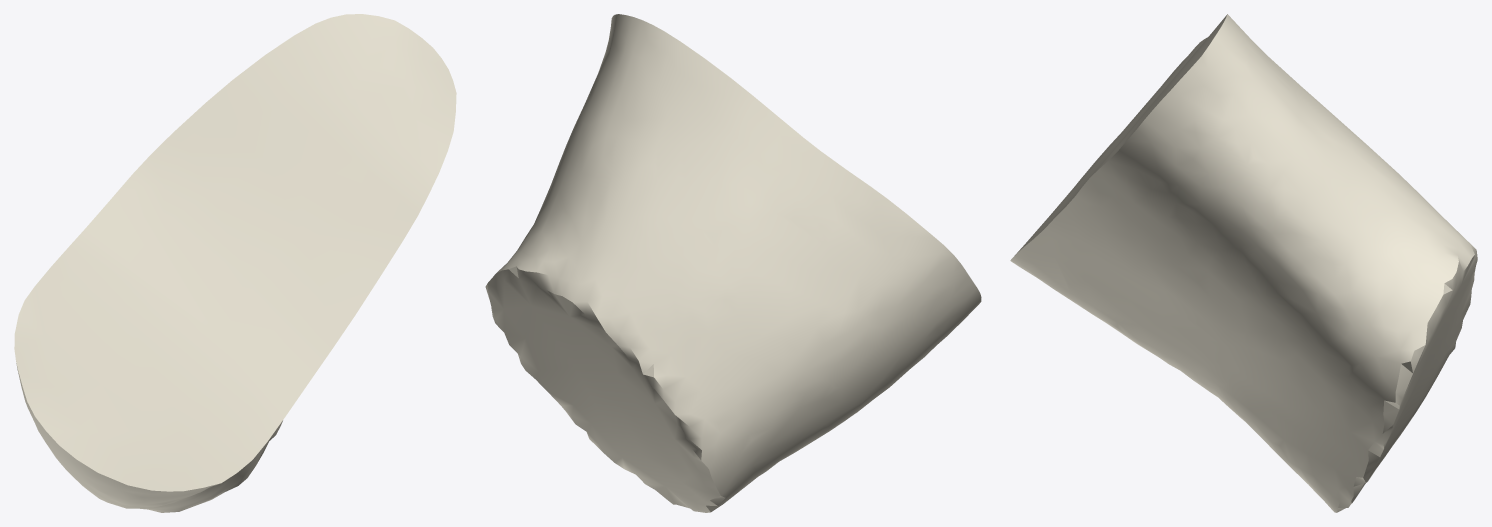
Rendered from fma16994_mm1611.glb.
3 renders of one model, left to right at view 1: azimuth 30°, elevation 25°; view 2: azimuth 150°, elevation 25°; view 3: azimuth 270°, elevation 25°, orthographic. The views are drawn at different scales.
Visible parts, largest first — view 1: FMA16994_MM1611; view 2: FMA16994_MM1611; view 3: FMA16994_MM1611.
Part boxes in pixels (box(x1,y1,x2,y2)): FMA16994_MM1611: box(14, 14, 456, 512); FMA16994_MM1611: box(485, 14, 981, 512); FMA16994_MM1611: box(1010, 14, 1477, 512).
Size of the model in its own units: 0.0219 by 0.0235 by 0.0189.
